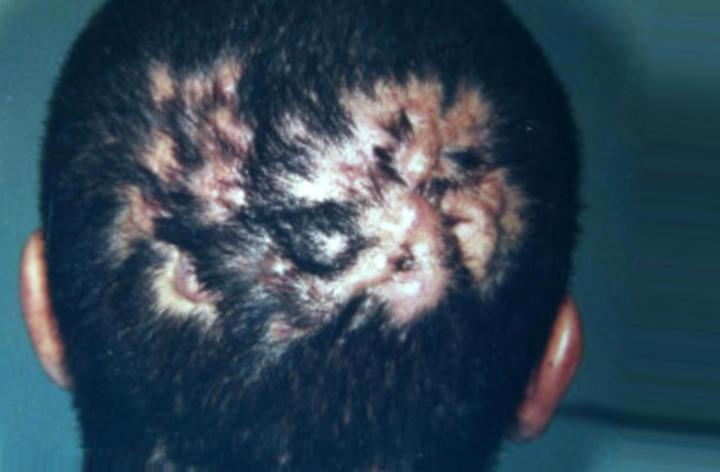Folliculitis: (116, 77, 515, 315)
